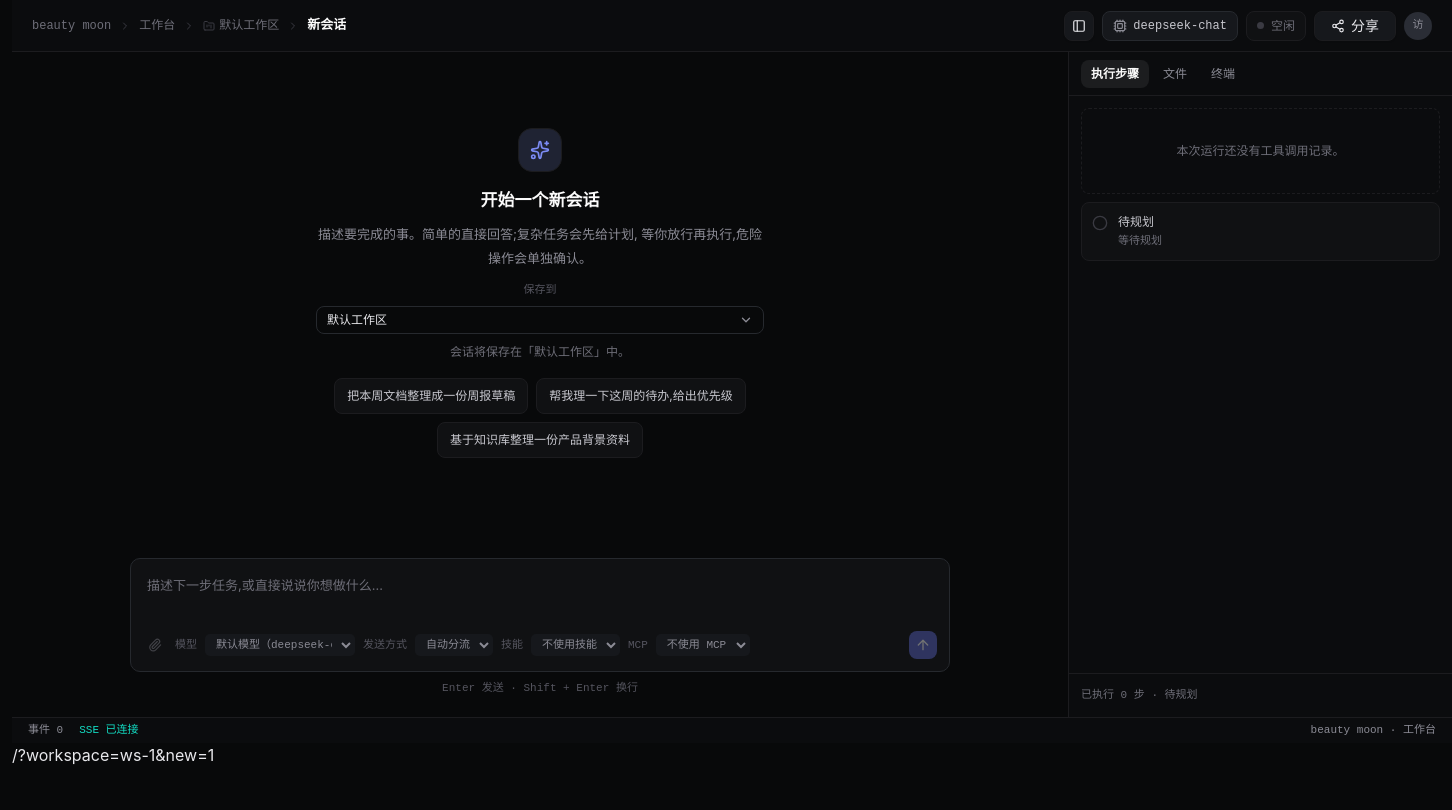
Test: ChatPage 页面与 URL › hero 里切换工作区:地址栏留在新会话,归属跟着切
Step 1. Select "研究组" in the dropdown named "选择工作区" → (540, 320), box [327, 312, 753, 328]
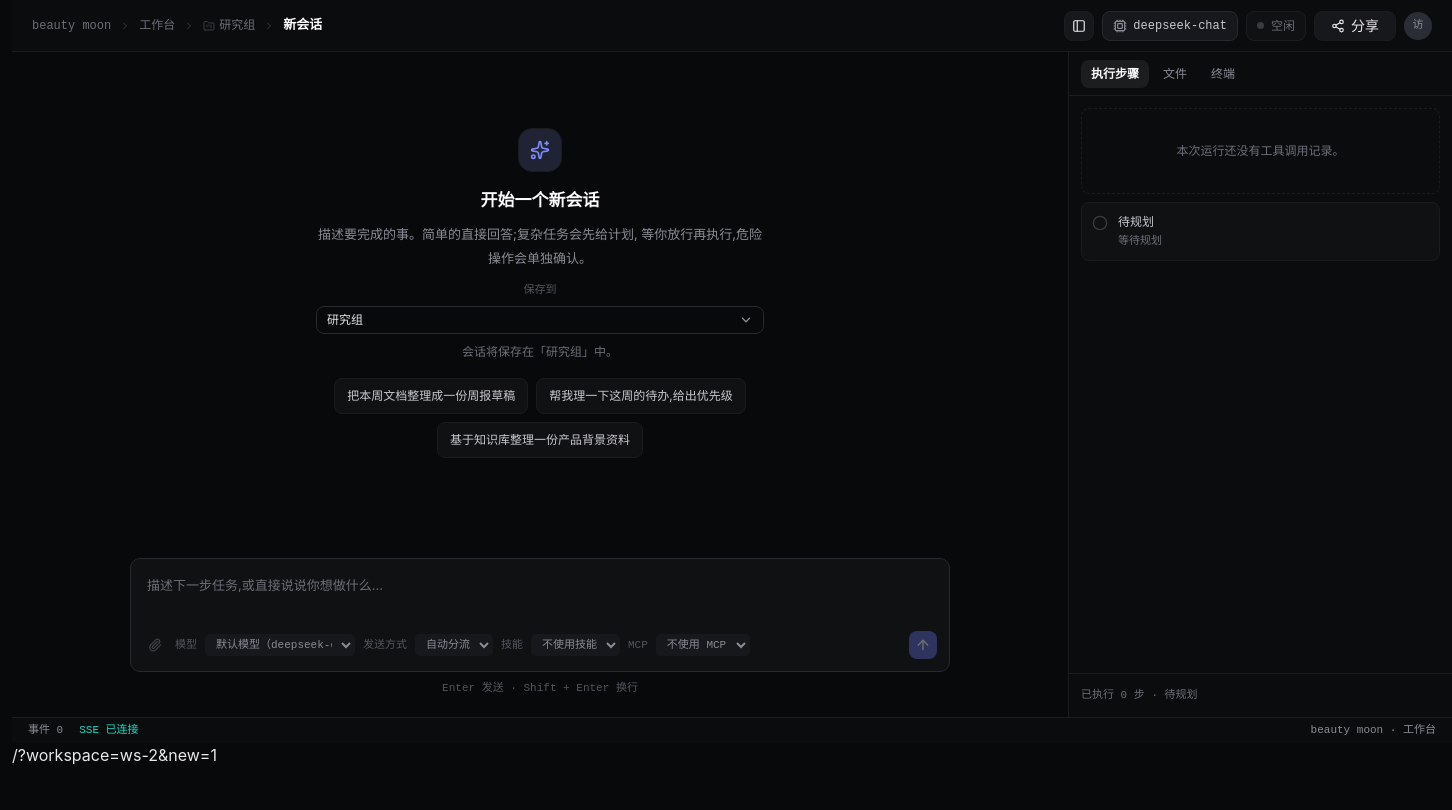
Result: the text with test id "location" reads "/?workspace=ws-2&new=1" at [12, 744, 217, 764]
Result: the text "会话将保存在「研究组」中。" is shown at [462, 344, 618, 359]
